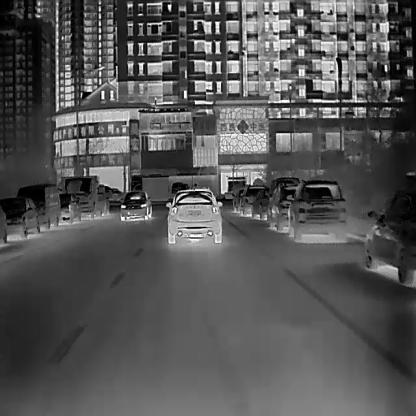car: (365, 196, 415, 283), (288, 178, 345, 240), (167, 187, 221, 242), (17, 183, 60, 228), (65, 176, 110, 218), (266, 182, 300, 232), (0, 198, 40, 236), (120, 190, 152, 221), (265, 176, 300, 202), (239, 184, 265, 216), (58, 192, 81, 223), (248, 186, 269, 219), (230, 187, 244, 212)
